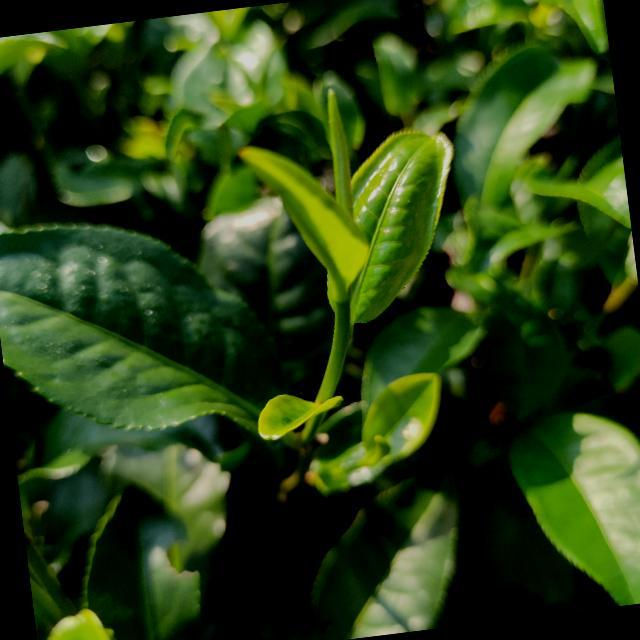Stem: (324, 343, 348, 382)
